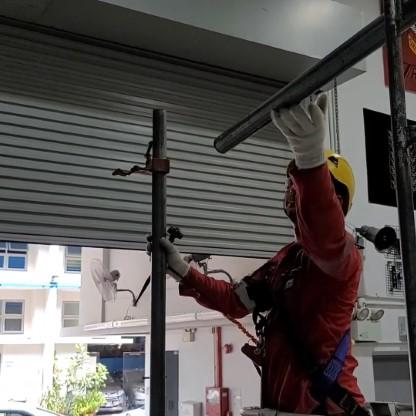helmet: (255, 141, 357, 247)
